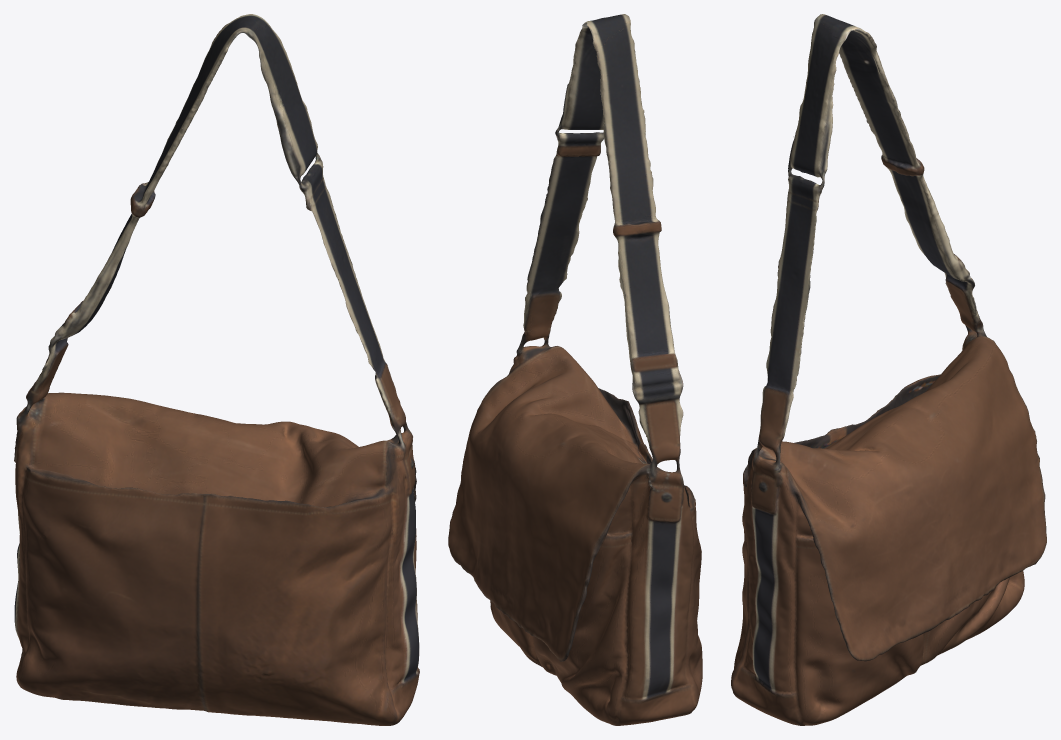
The model's file is sling_bag.glb.
3 views of the same model, side by side, from view 1: azimuth 30°, elevation 25°; view 2: azimuth 150°, elevation 25°; view 3: azimuth 270°, elevation 25° (orthographic). The views are drawn at different scales.
Parts seen in each view (by area): view 1: Object_4, Object_3, Object_5; view 2: Object_4, Object_3, Object_5; view 3: Object_4, Object_3, Object_5.
Boxes of the visible parts, left/top/right/bottom form: Object_4: left=14, top=28, right=419, bottom=725; Object_3: left=15, top=27, right=417, bottom=708; Object_5: left=14, top=14, right=418, bottom=725; Object_4: left=448, top=21, right=702, bottom=725; Object_3: left=448, top=22, right=694, bottom=637; Object_5: left=449, top=14, right=701, bottom=725; Object_4: left=731, top=34, right=1046, bottom=725; Object_3: left=742, top=19, right=995, bottom=724; Object_5: left=733, top=14, right=1045, bottom=724.
Size of the model in its own units: 342 by 692 by 306.
Materials: 1 (1 with a texture image).
